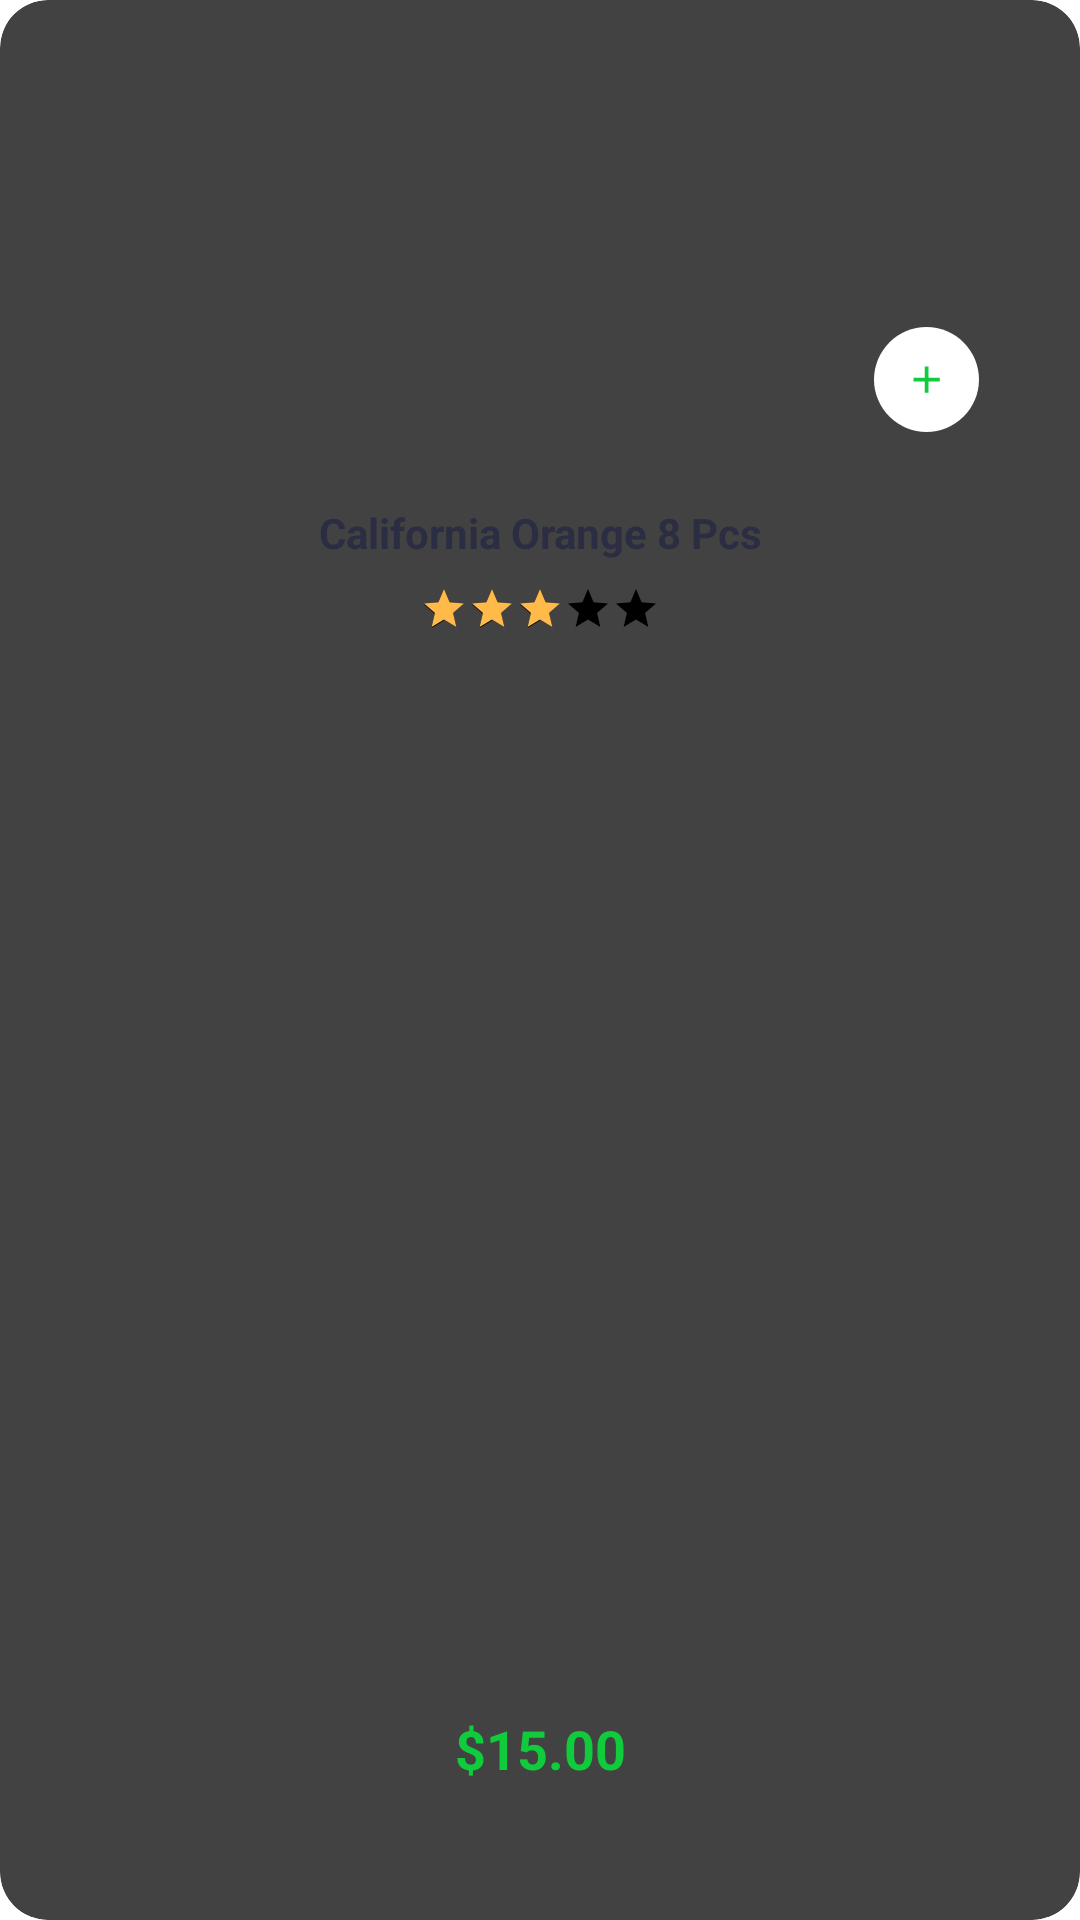

Named icons in this screenshot (1080px x 1920px) and their centers, (x,y):
add: (926,379)
